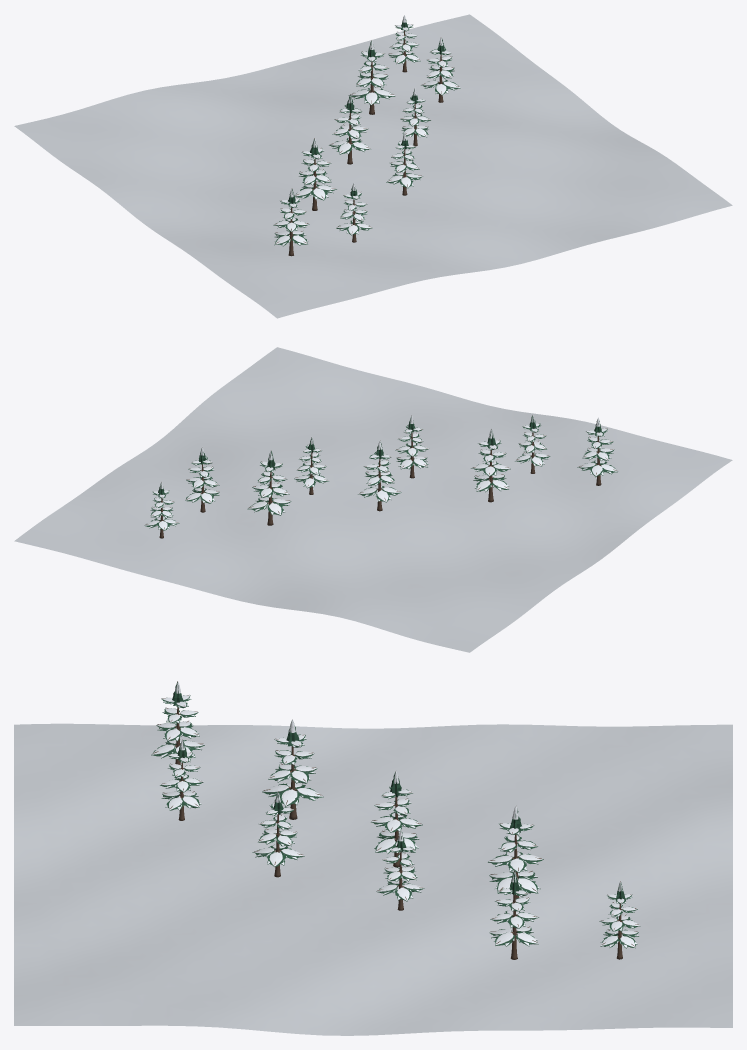
The model's file is area_forest.glb.
3 views of the same model, one above another, from view 1: azimuth 30°, elevation 25°; view 2: azimuth 150°, elevation 25°; view 3: azimuth 270°, elevation 25° (orthographic). The views are drawn at different scales.
Parts seen in each view (by area): view 1: 지면_눈; view 2: 지면_눈; view 3: 지면_눈.
Part boxes in pixels (x1,y1,x2,y2): 지면_눈: (14, 14, 732, 318); 지면_눈: (14, 347, 732, 652); 지면_눈: (14, 723, 732, 1035).
Size of the model in its own units: 130 by 22.33 by 130.
